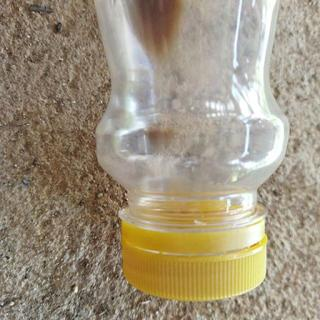Plastic-bottle: (91, 1, 291, 303)
